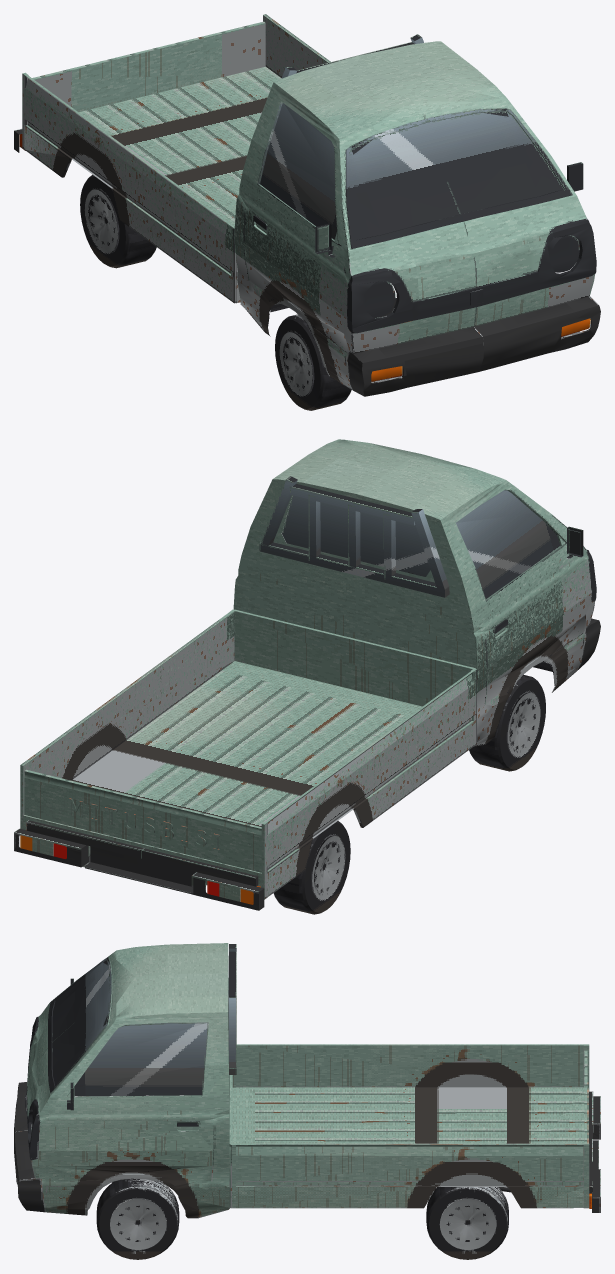
The model's file is kei_truck_b.glb.
The picture shows the model from 3 angles, top to bottom: view 1: azimuth 30°, elevation 25°; view 2: azimuth 150°, elevation 25°; view 3: azimuth 270°, elevation 25°; orthographic projection. The views are drawn at different scales.
Visible parts, largest first — view 1: kei_truck_b; view 2: kei_truck_b; view 3: kei_truck_b.
Part boxes in pixels (bbox=[...]): kei_truck_b: bbox=[14, 14, 600, 410]; kei_truck_b: bbox=[14, 439, 600, 914]; kei_truck_b: bbox=[14, 943, 600, 1259].
Bounding box in the file's own units: 1.42 × 1.47 × 3.2.
1 material, 1 textured.
